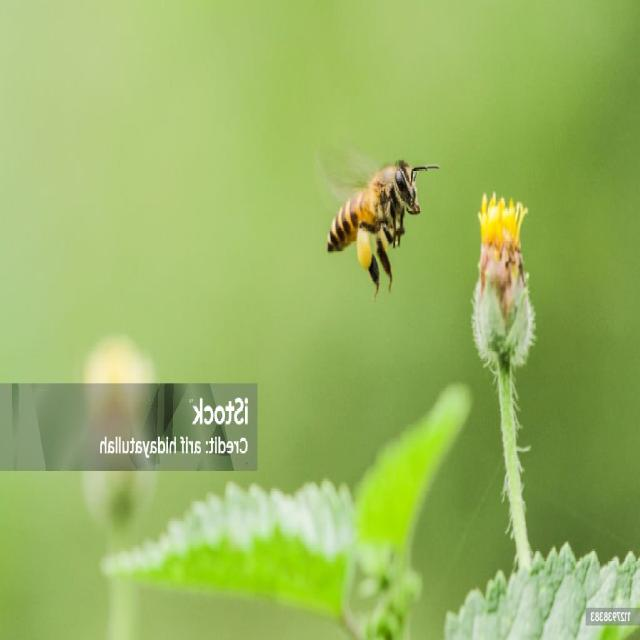bees: (305, 130, 442, 302)
